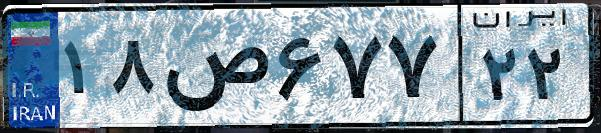1: (57, 26, 110, 100)
2: (475, 38, 525, 113), (525, 38, 570, 115)
6: (270, 28, 330, 110)
7: (385, 28, 445, 110), (330, 28, 385, 110)
8: (110, 28, 158, 98)
ص: (158, 20, 270, 120)
